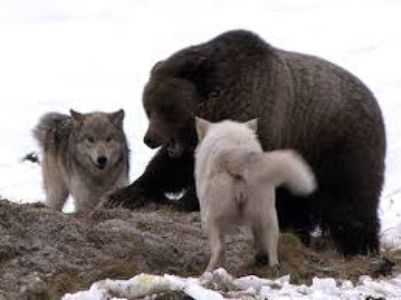bear: (143, 37, 379, 200)
wolf: (197, 116, 303, 275), (30, 104, 135, 213)
